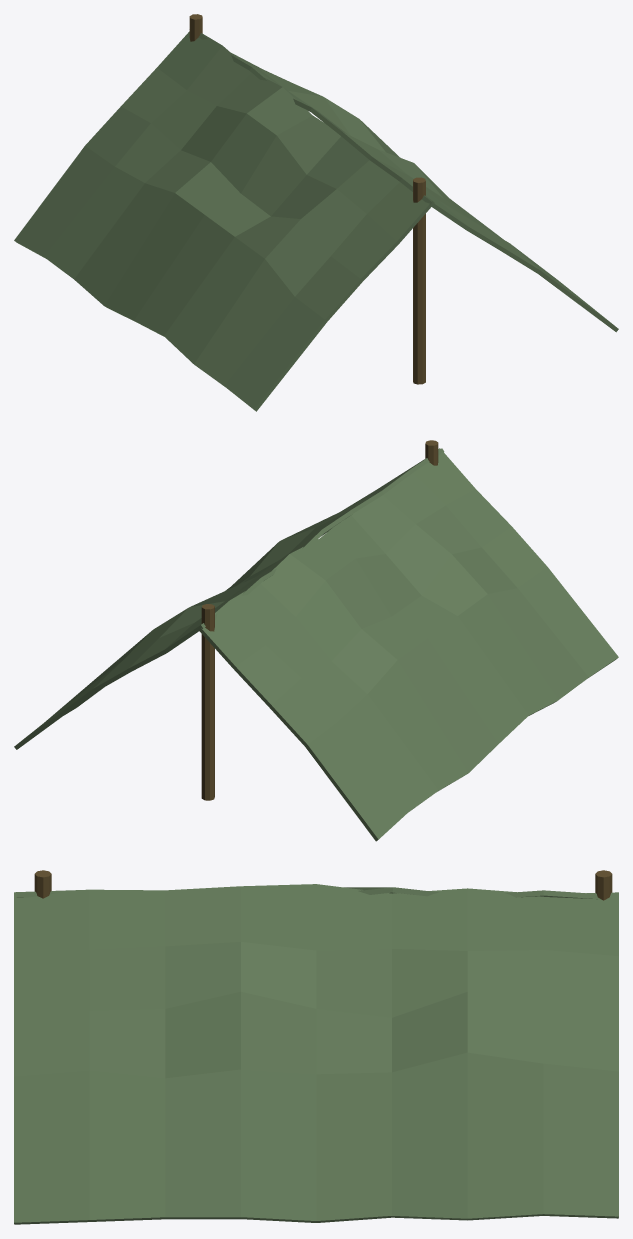
File: tente1.fbx
3 views of the same model, one above another, from view 1: azimuth 30°, elevation 25°; view 2: azimuth 150°, elevation 25°; view 3: azimuth 270°, elevation 25° (orthographic). The views are drawn at different scales.
Parts seen in each view (by area): view 1: Plan.004; view 2: Plan.004; view 3: Plan.004.
Boxes of the visible parts, x1,y1,x2,y2 form: Plan.004: (14, 14, 618, 411); Plan.004: (14, 440, 618, 841); Plan.004: (14, 870, 618, 1224).
Bounding box in the file's own units: 391 × 207 × 448.
